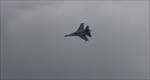maybay_muctieu: (64, 24, 93, 42)
